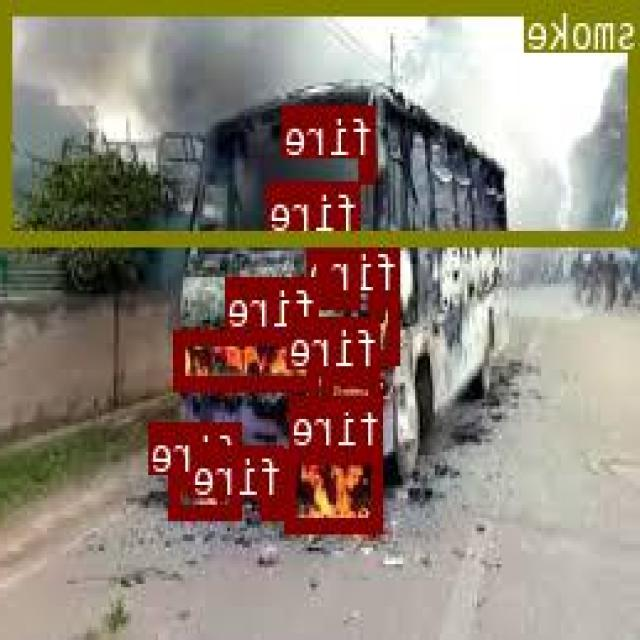fire: (178, 328, 320, 387), (288, 448, 385, 531), (321, 231, 363, 305), (172, 474, 244, 516), (324, 370, 382, 408), (372, 292, 402, 362), (264, 497, 285, 515), (362, 156, 378, 179)
smoke: (5, 0, 640, 241)
